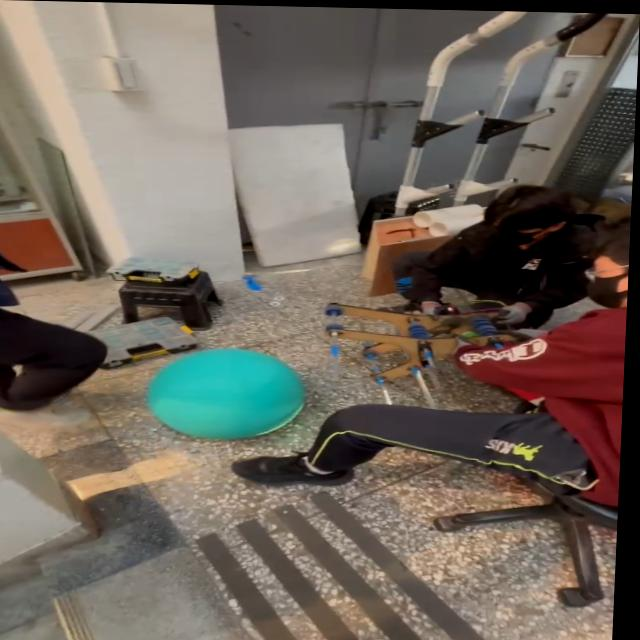ALGAE: (143, 345, 309, 443)
